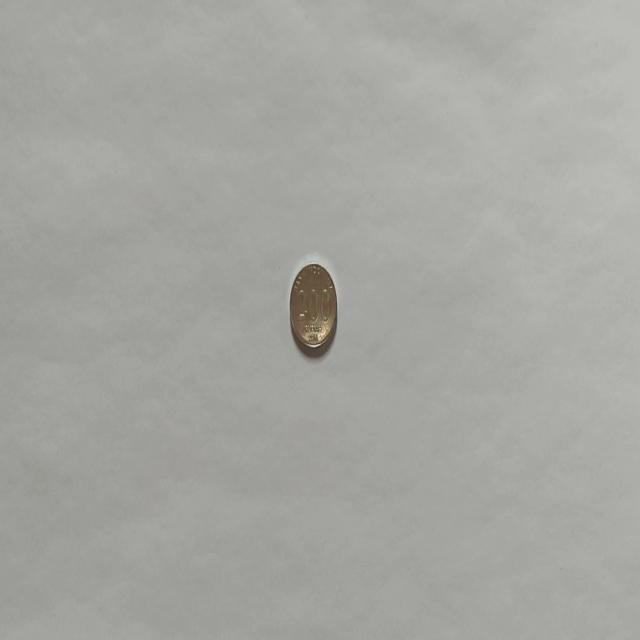dua ratus rupiah: (288, 260, 338, 353)
